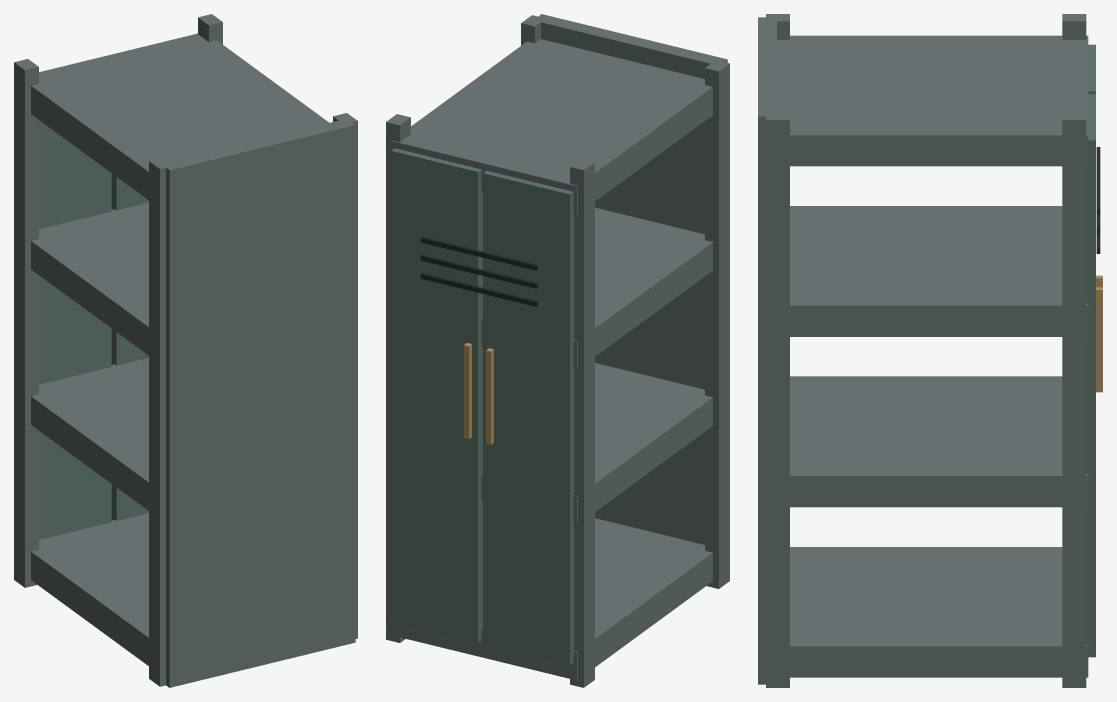
File: LP_Security_Locker.fbx
3 renders of one model, left to right at view 1: azimuth 30°, elevation 25°; view 2: azimuth 150°, elevation 25°; view 3: azimuth 270°, elevation 25°, orthographic. The views are drawn at different scales.
Parts seen in each view (by area): view 1: M_Museum_BrushedMetal, SageUpholstery; view 2: M_Museum_BrushedMetal, SageUpholstery, Charcoal, AgedBrass; view 3: M_Museum_BrushedMetal, SageUpholstery, AgedBrass, Charcoal.
Boxes of the visible parts, <box> form: M_Museum_BrushedMetal: <box>14,14,357,687</box>; SageUpholstery: <box>39,120,148,539</box>; M_Museum_BrushedMetal: <box>386,14,729,687</box>; SageUpholstery: <box>391,148,574,665</box>; Charcoal: <box>420,236,538,306</box>; AgedBrass: <box>464,343,493,444</box>; M_Museum_BrushedMetal: <box>758,14,1088,687</box>; SageUpholstery: <box>1086,44,1095,657</box>; AgedBrass: <box>1096,275,1102,392</box>; Charcoal: <box>1096,147,1100,253</box>.
Bounding box in the file's own units: 80 × 200 × 110.
